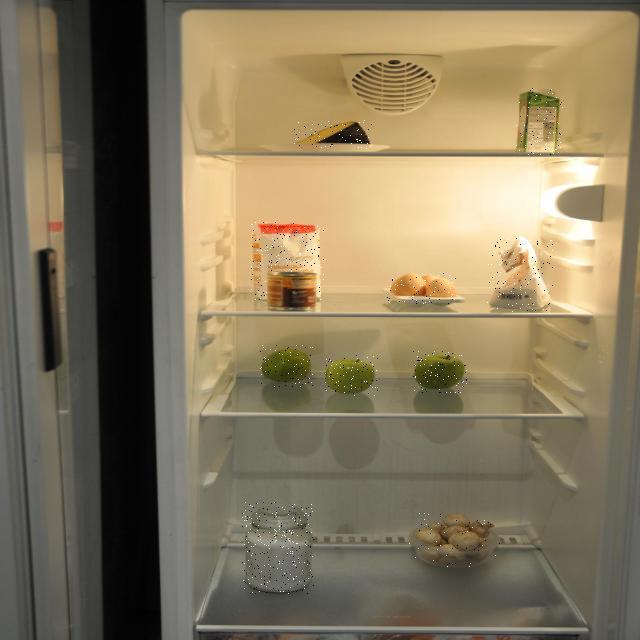apple: (413, 351, 467, 393), (260, 345, 313, 387), (324, 355, 378, 396)
cheese: (293, 120, 373, 149)
corn: (268, 272, 318, 312)
eggs: (387, 272, 458, 304)
flour: (488, 237, 556, 312)
heavy_cream: (516, 88, 564, 155)
mushrooms: (408, 512, 505, 568)
sugar: (242, 502, 314, 594), (251, 222, 324, 301)
